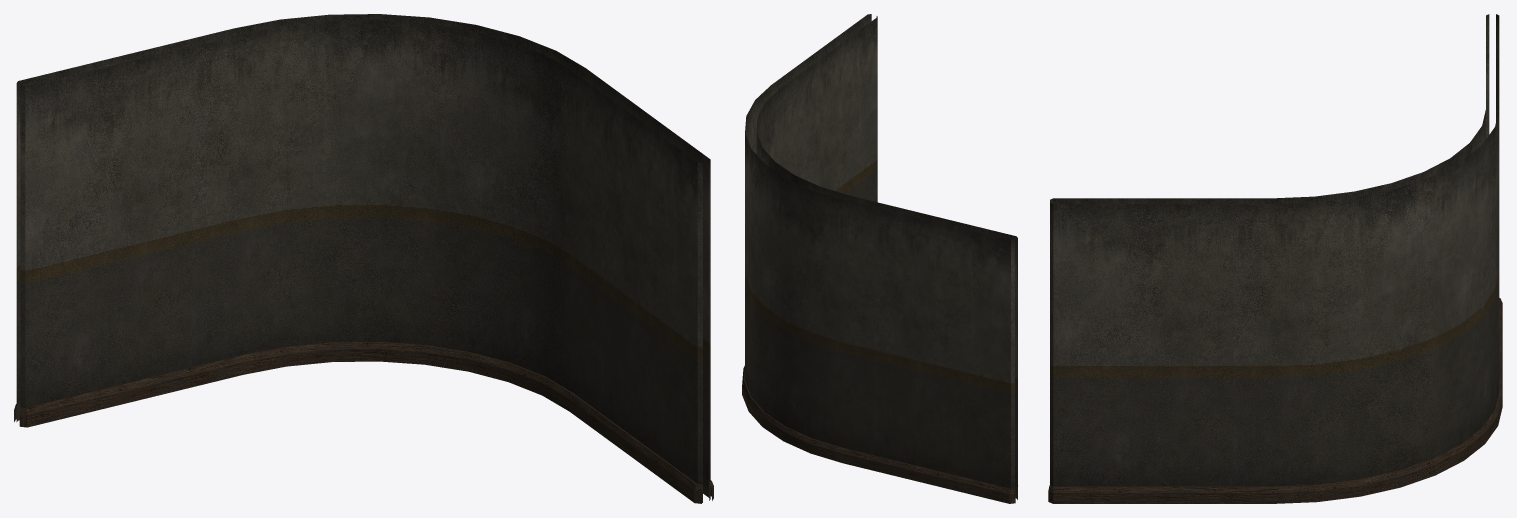
File: wall_1_rounded_corner_1.glb
The picture shows the model from 3 angles, left to right: view 1: azimuth 30°, elevation 25°; view 2: azimuth 150°, elevation 25°; view 3: azimuth 270°, elevation 25°; orthographic projection. The views are drawn at different scales.
Visible parts, largest first — view 1: wall_1_rounded_corner_1; view 2: wall_1_rounded_corner_1; view 3: wall_1_rounded_corner_1.
Part boxes in pixels (x1,y1,x2,y2): wall_1_rounded_corner_1: (14, 14, 713, 503); wall_1_rounded_corner_1: (742, 14, 1017, 503); wall_1_rounded_corner_1: (1048, 14, 1502, 503).
Bounding box in the file's own units: 4.14 × 3 × 4.14.
2 materials, 2 textured.
